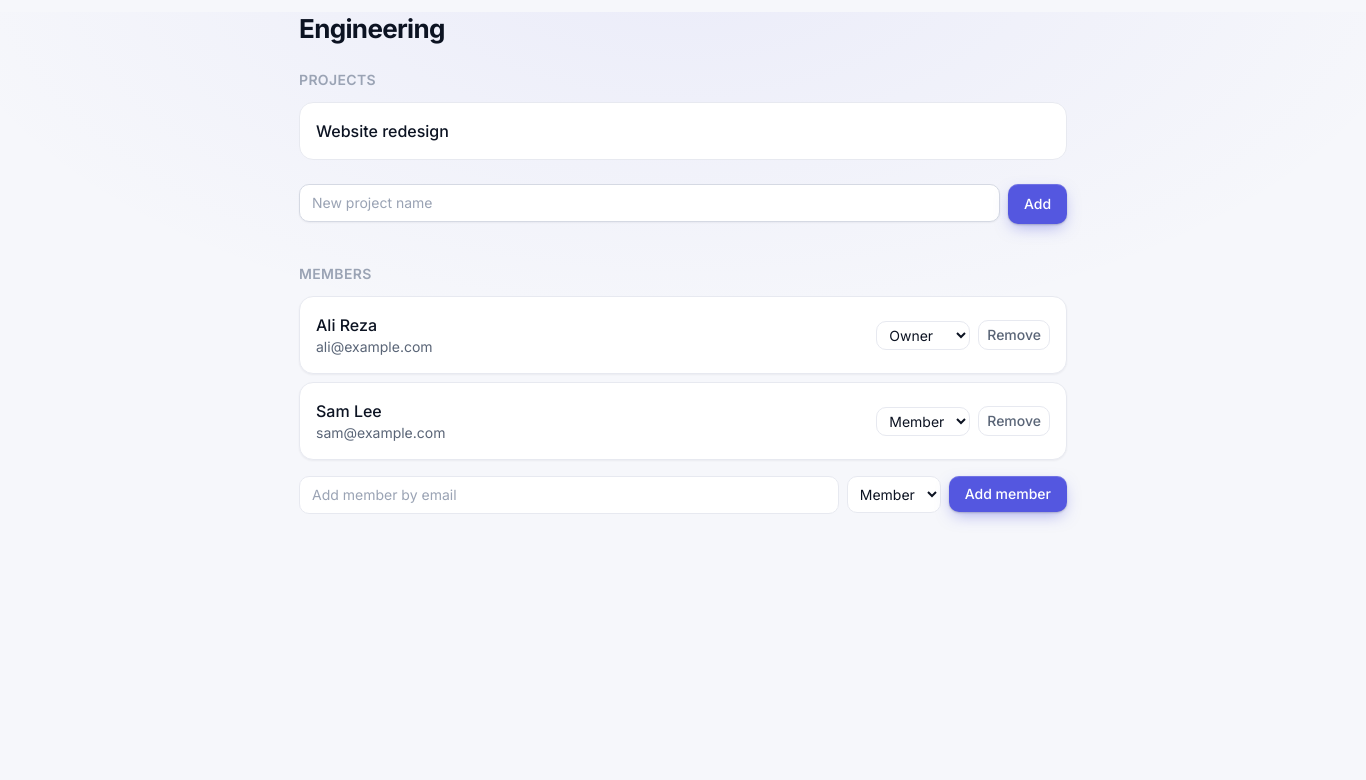
Test: TeamPage › adds a member by email
This screenshot has width=1366, height=780.
Check: the text "Sam Lee" is shown, box [316, 401, 382, 421]
In the field with placeholder "Add member by email": x=569, y=495 [299, 476, 839, 514], type "riya@example.com"
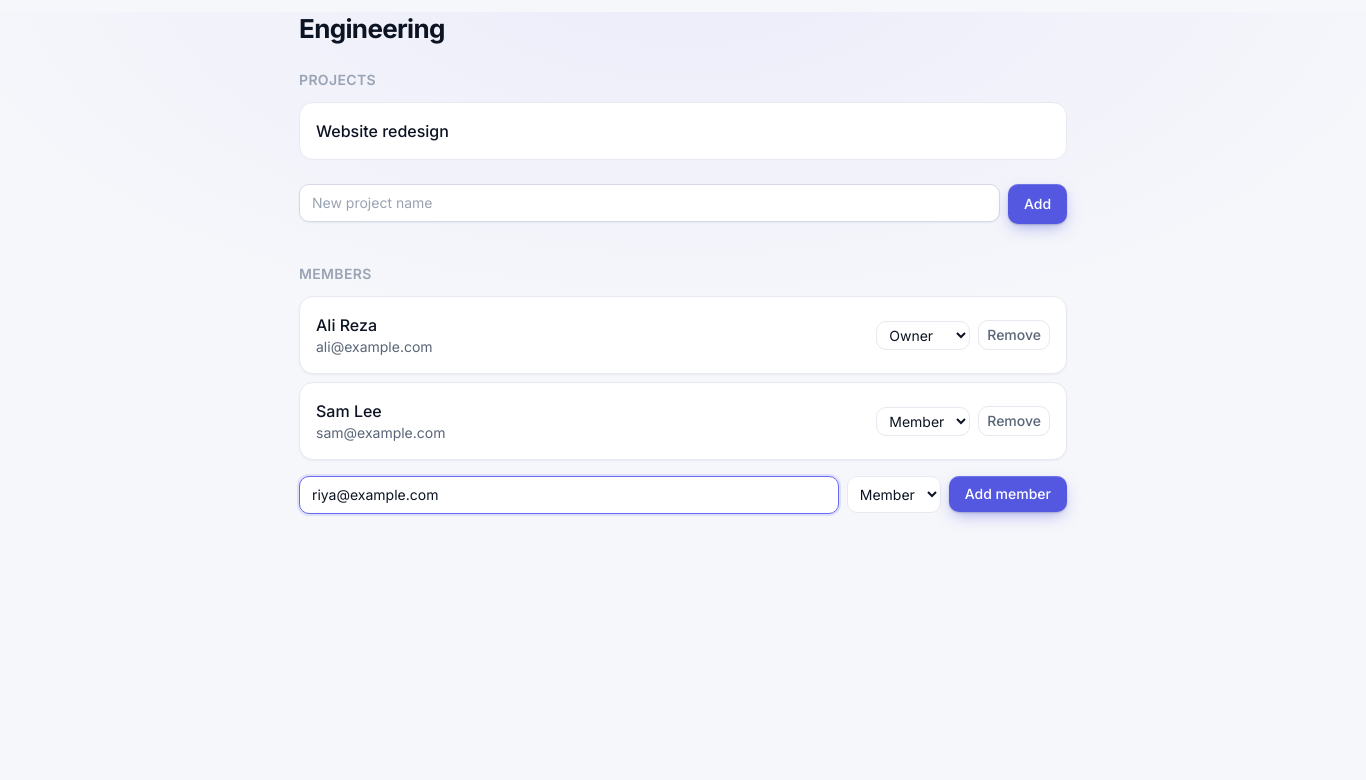
Click the button "Add member": x=1008, y=494 [949, 476, 1067, 512]
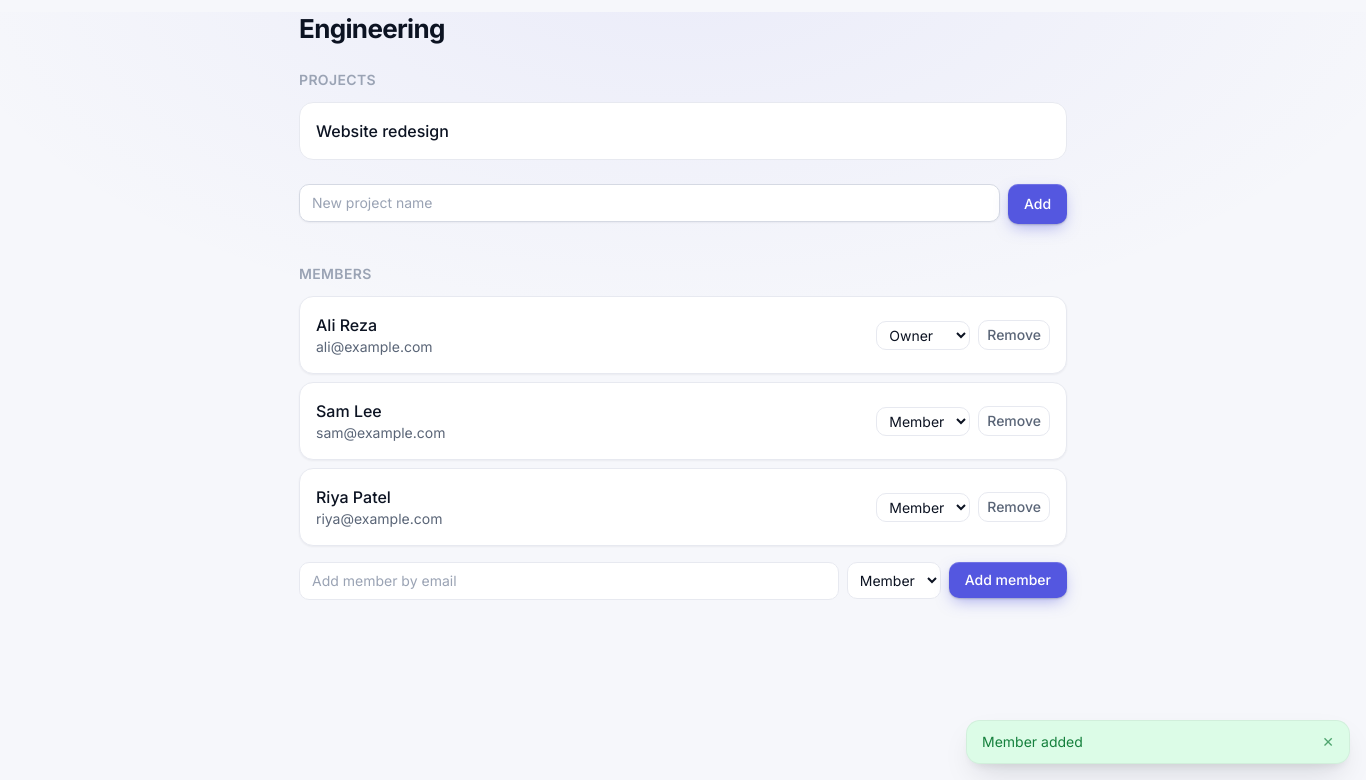
Check: the text "Riya Patel" is shown, box [316, 487, 391, 507]
